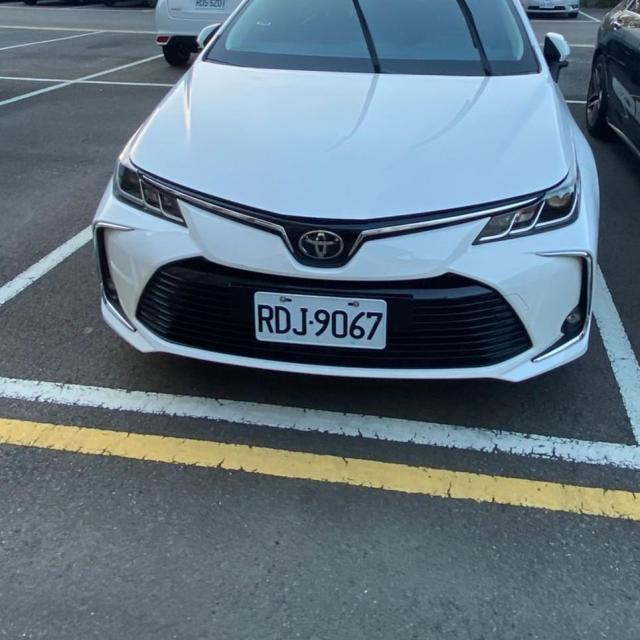W: (254, 290, 386, 348)
